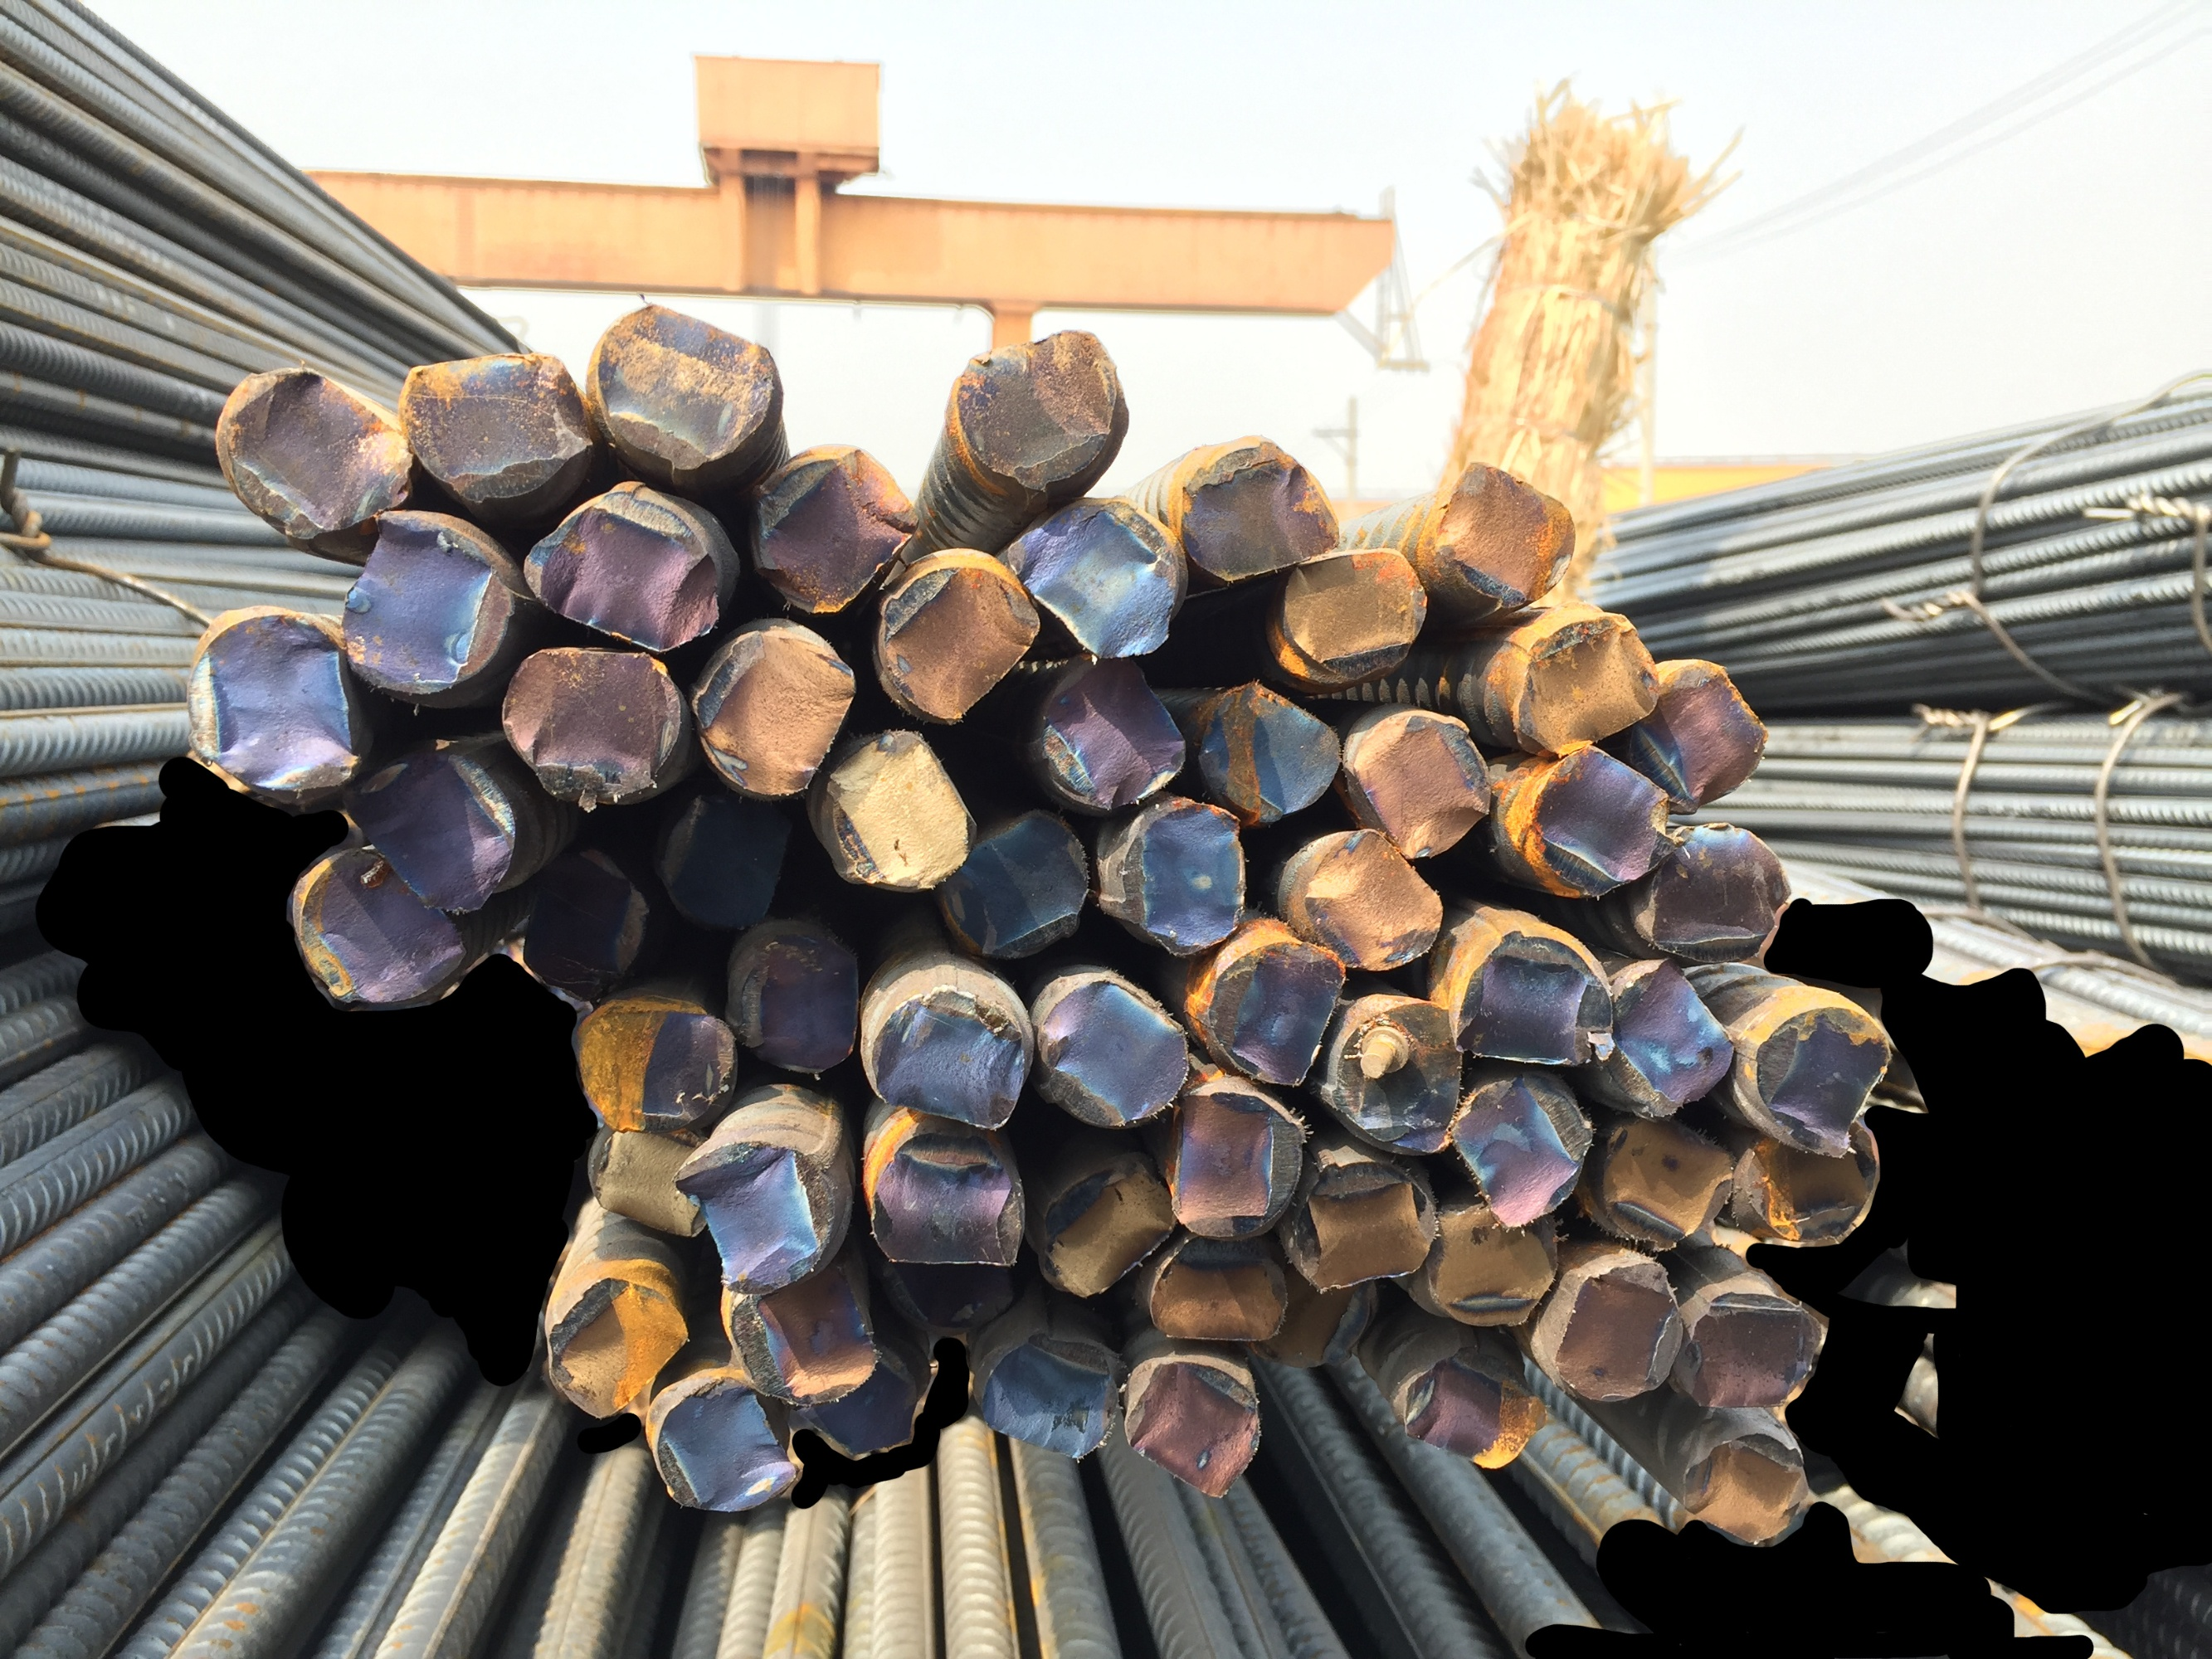rebar: (176, 603, 361, 812), (577, 295, 777, 481), (218, 357, 413, 545), (331, 507, 519, 702), (514, 477, 720, 655), (485, 636, 685, 812), (865, 545, 1042, 732), (746, 446, 924, 629), (397, 345, 593, 511), (695, 615, 865, 805), (288, 843, 467, 1018), (950, 326, 1130, 497), (343, 753, 525, 920), (675, 1133, 852, 1297), (814, 727, 980, 901), (1014, 505, 1180, 673), (640, 1370, 811, 1527), (1747, 992, 1896, 1166), (716, 1255, 885, 1408), (1171, 434, 1340, 587), (570, 988, 741, 1140), (1034, 972, 1192, 1134), (1457, 918, 1618, 1077), (865, 981, 1034, 1131), (1032, 652, 1191, 810), (495, 852, 655, 1007), (537, 1269, 692, 1427), (1189, 673, 1342, 833), (1431, 451, 1583, 612), (1522, 741, 1677, 896), (1156, 1084, 1306, 1243), (1199, 936, 1347, 1096), (938, 810, 1093, 962), (1347, 716, 1497, 870), (1450, 1073, 1595, 1232), (1604, 962, 1738, 1133), (866, 1134, 1034, 1269), (1299, 823, 1445, 976), (1515, 603, 1659, 758), (1325, 997, 1461, 1157), (1126, 1351, 1265, 1506), (1109, 800, 1246, 957), (1642, 652, 1771, 819), (1644, 817, 1790, 964), (1027, 1164, 1182, 1302), (1541, 1263, 1689, 1406), (657, 784, 797, 936), (737, 927, 866, 1086), (1680, 1283, 1830, 1417), (1293, 1159, 1442, 1291), (1400, 1351, 1551, 1480), (1731, 1121, 1883, 1249), (971, 1330, 1114, 1466), (1593, 1119, 1741, 1249), (1140, 1225, 1293, 1351), (784, 1330, 927, 1460), (1278, 551, 1433, 671), (577, 1119, 718, 1249), (1677, 1424, 1813, 1547), (1429, 1204, 1560, 1330), (1248, 1276, 1382, 1380), (879, 1249, 1021, 1326)
